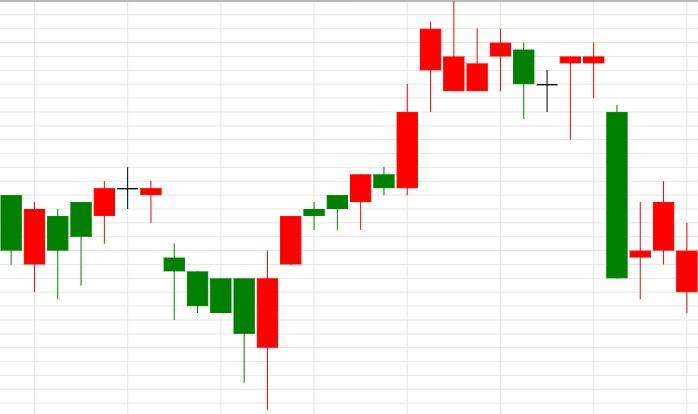bullish_engulfing_rise: (164, 243, 278, 410)
